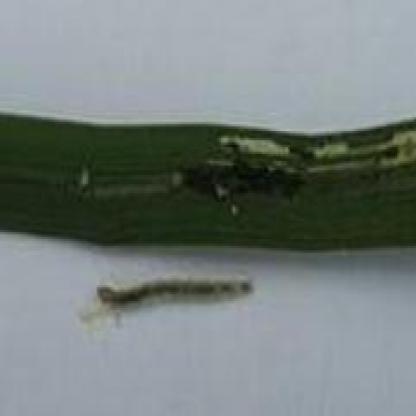leaf-folder: (90, 263, 248, 320)
